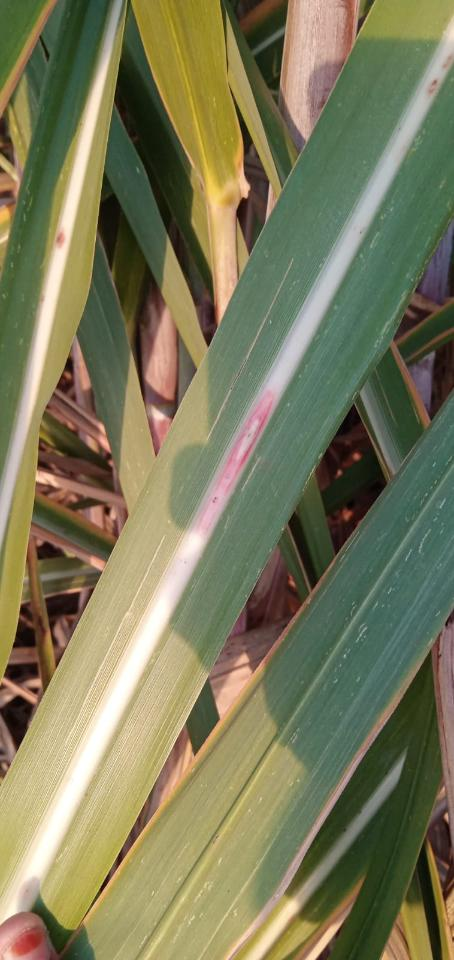RedRot: (199, 390, 275, 535), (425, 53, 454, 99), (56, 229, 66, 251)
